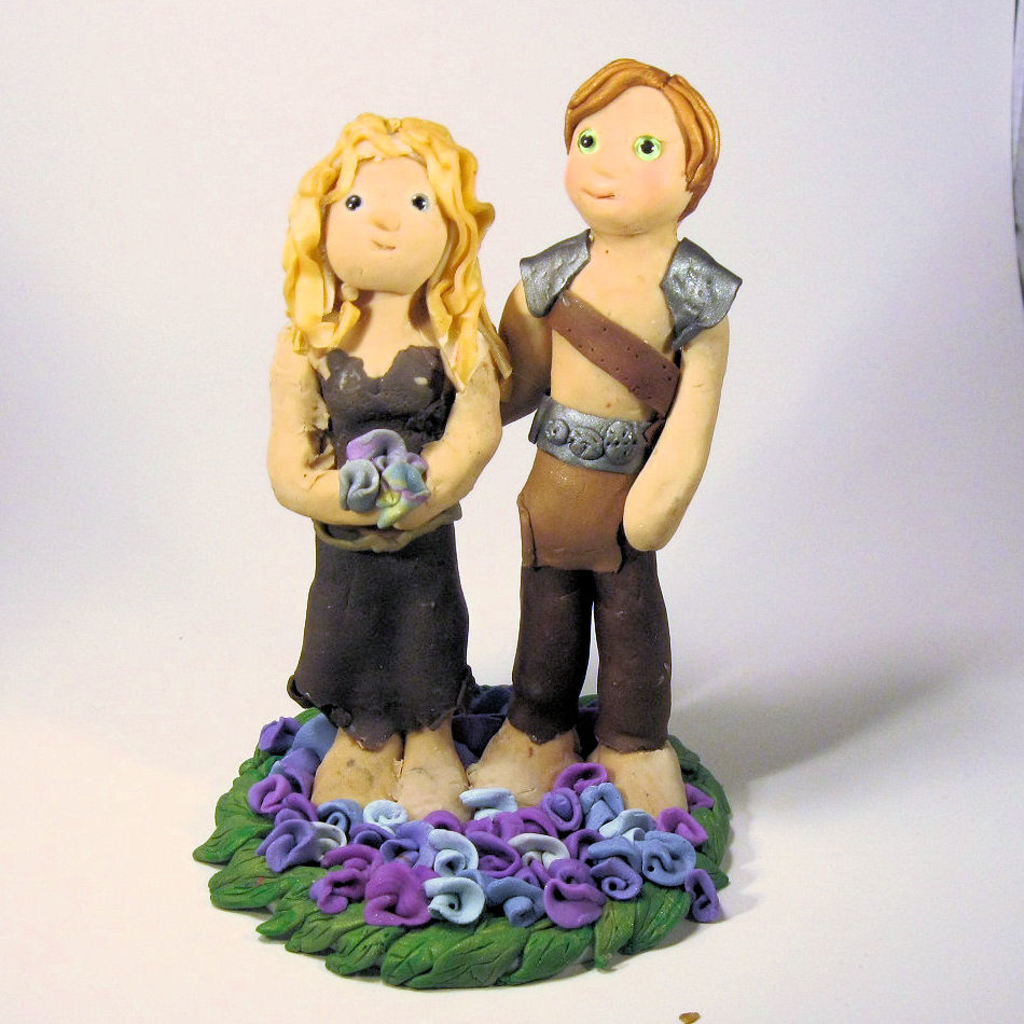cake: (188, 53, 743, 988)
